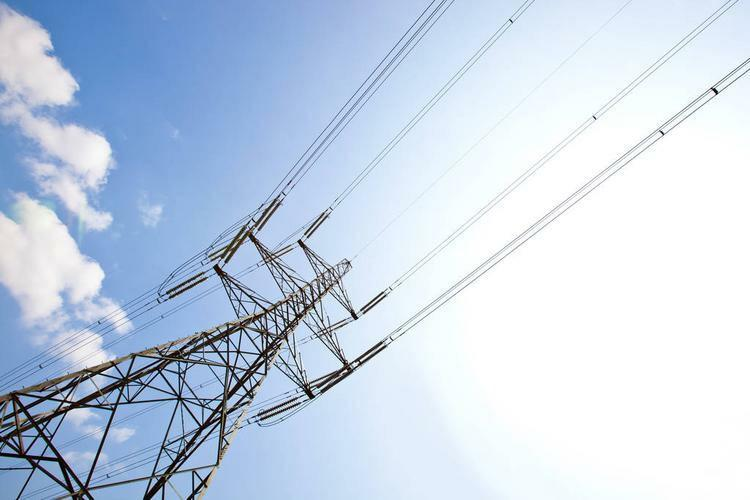power_tower: (0, 178, 410, 500)
